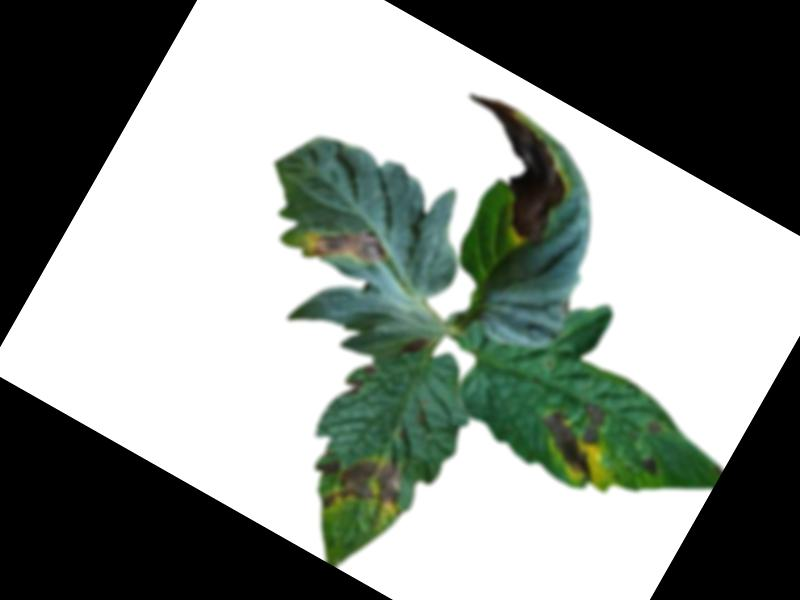Early_blight: (420, 85, 592, 247), (317, 437, 415, 540), (527, 385, 626, 484), (296, 202, 394, 291), (341, 357, 377, 403), (397, 328, 430, 366), (314, 450, 343, 480), (638, 451, 665, 477), (643, 417, 664, 437)
